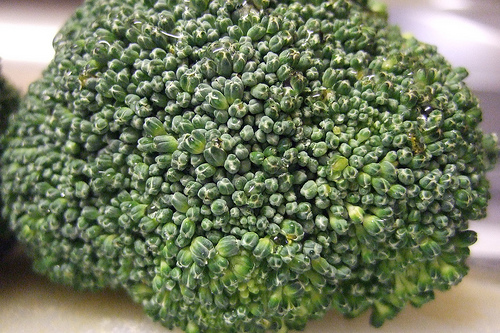broccoli: (3, 2, 495, 331)
